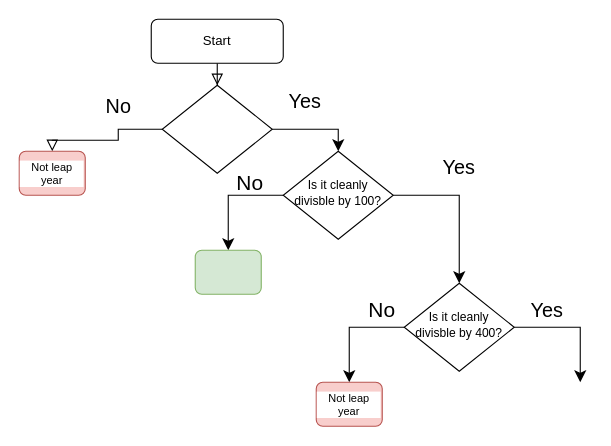
Image size: 611x446. Some labels were removed from this diagram. Here are the shapes that lost their labels. From the top down, the centre of each, then its label:
At point (216, 128): "Is it divisible by 4?".
At point (227, 271): "Leap year".
